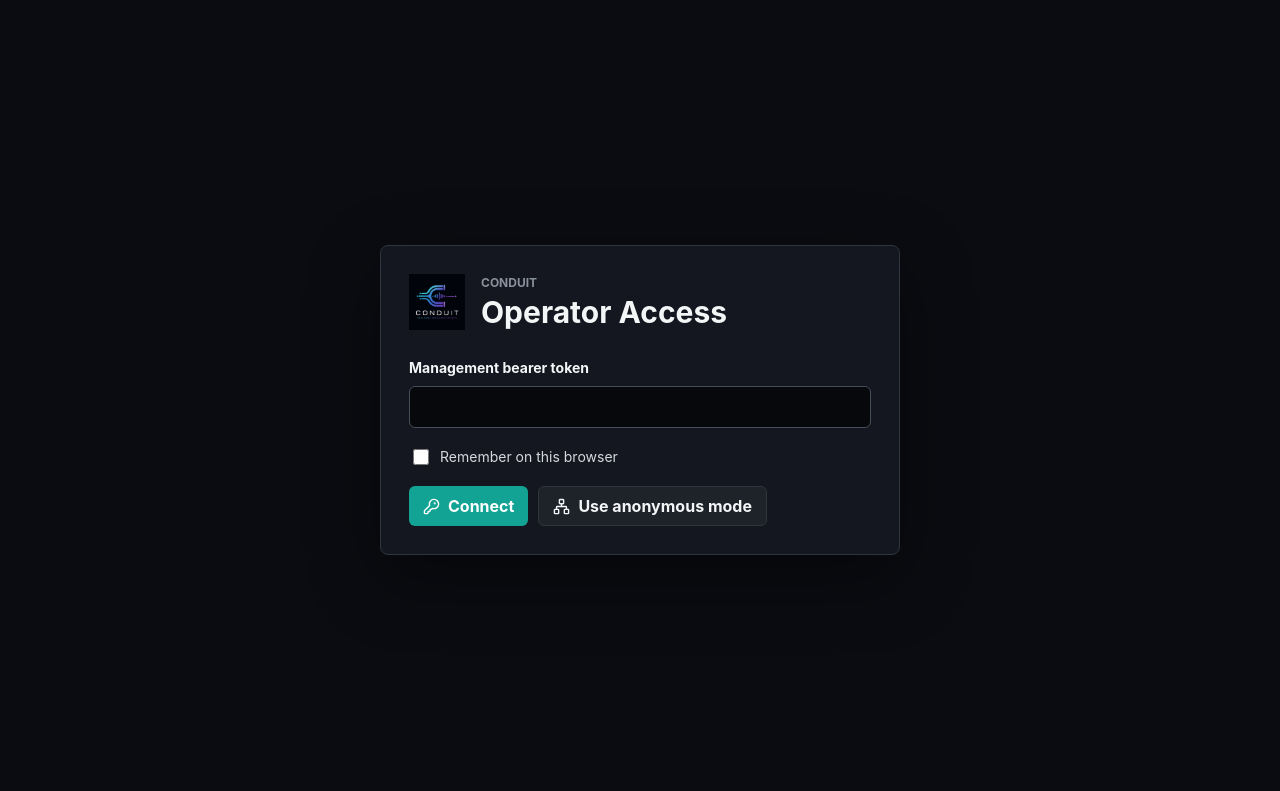
Scenario: Events turn reconstruction › marks the server reconstruction stale when the event stream is stale
The image size is (1280, 791).
Click the button "Use anonymous mode": (653, 506) [538,486,767,526]
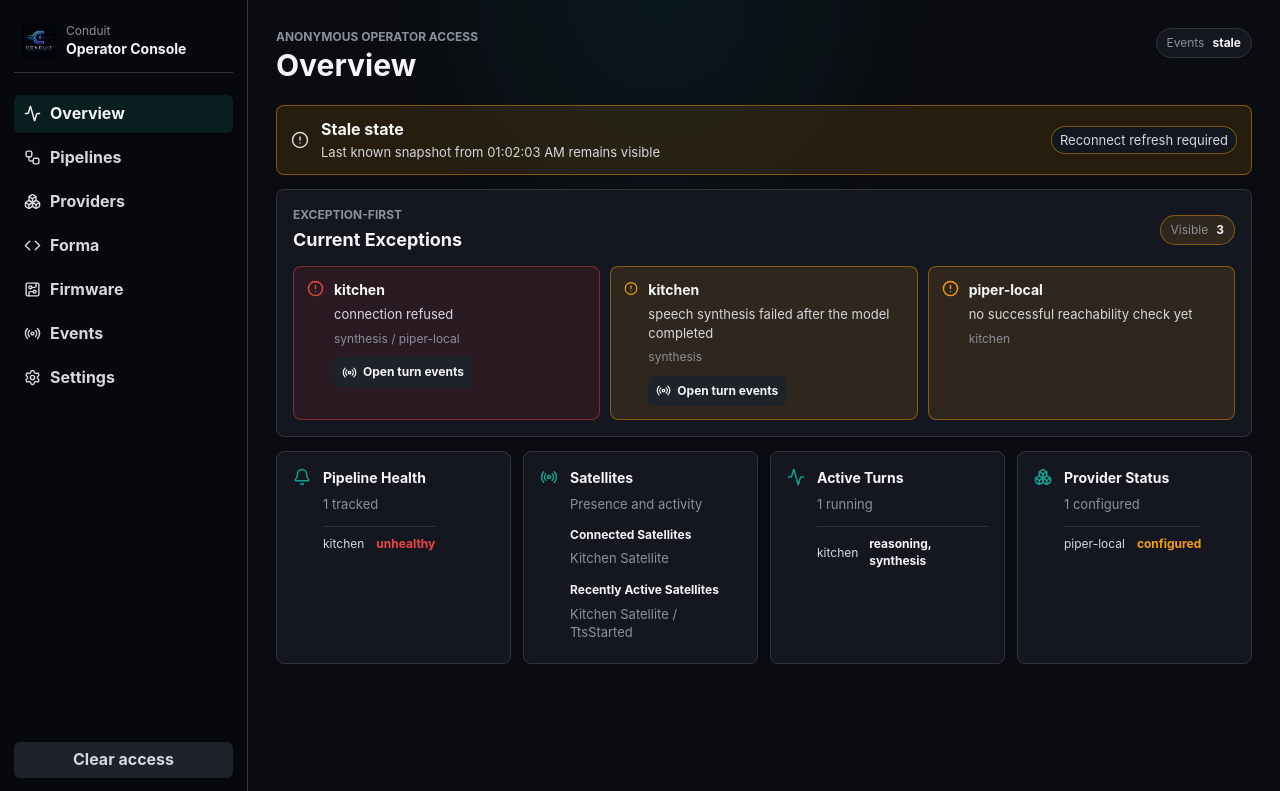
Click the tab "Events": (124, 334) [14,315,233,353]
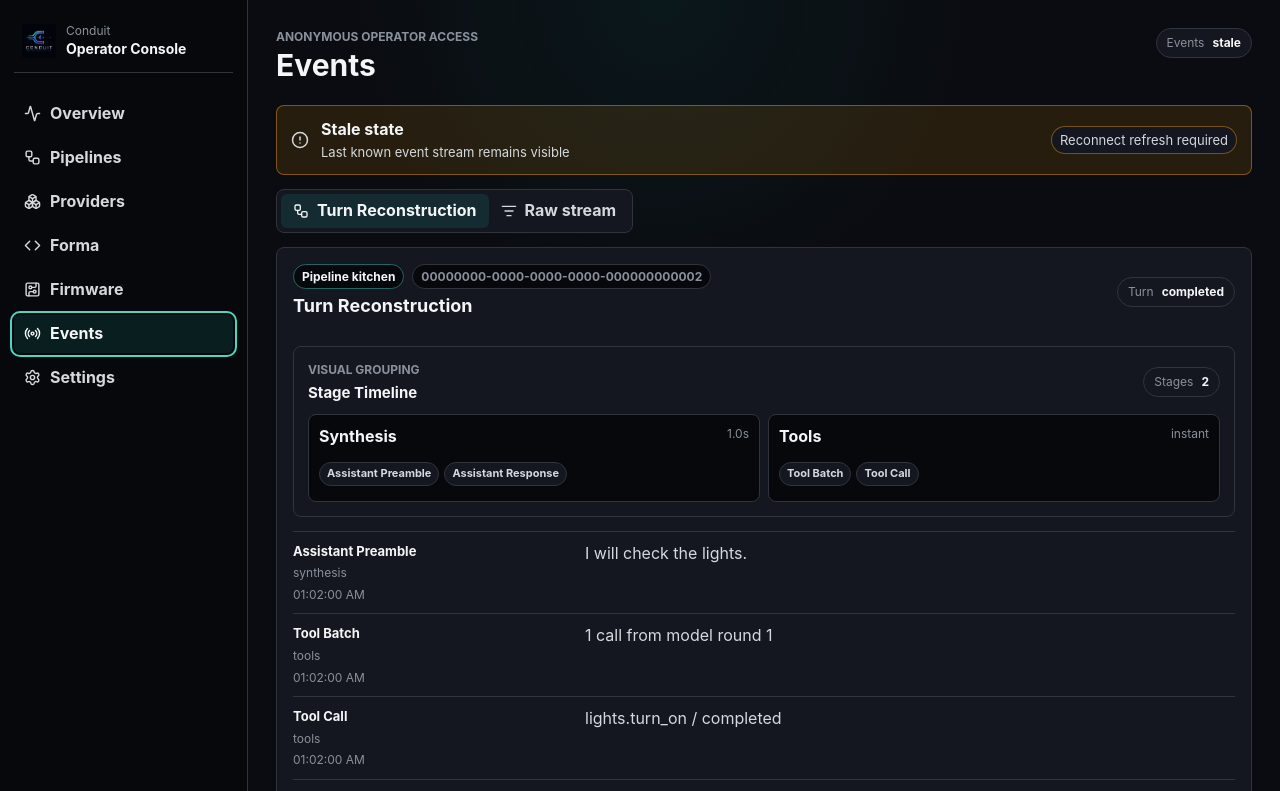
Now the element labelled "Stale state" is shown, box [321,119,404,139]
Now the text "completed" is shown, box [1162,283,1224,300]
